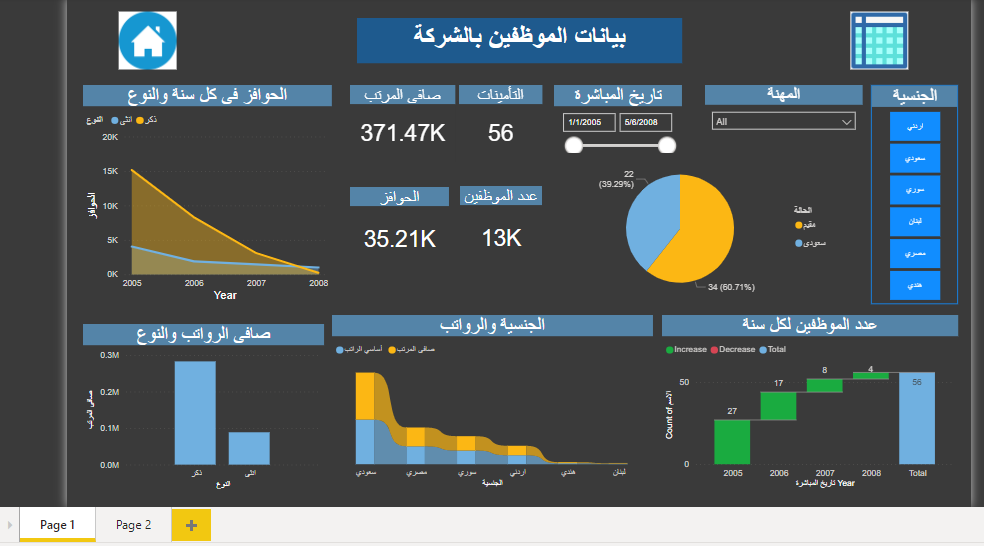

The dashboard page shown, as its layout file describes it:
{"tool":"powerbi","page":{"name":"Page 1","canvas":[1280,720],"ordinal":0},"visuals":[{"type":"slicer","title":"تاريخ المباشرة","fields":{"Values":["Sheet1.تاريخ المباشرة  "]},"box":[688.7,122.6,181.4,107.5],"z":0},{"type":"textbox","box":[409.9,28.6,460.3,63.8],"z":1000},{"type":"card","title":"عدد الموظفين","fields":{"Values":["Sum(Sheet1.رقم الموظف)"]},"box":[555.9,265.9,116,120.2],"z":2000},{"type":"card","title":"الحوافز","fields":{"Values":["Sum(Sheet1.الحوافز)"]},"box":[400.3,267.3,140,120.2],"z":3000},{"type":"card","title":"صافى المرتب","fields":{"Values":["Sum(Sheet1.صافى المرتب)"]},"box":[400.3,123.1,148.5,107.5],"z":4000},{"type":"card","title":"التأمينات","fields":{"Values":["CountNonNull(Sheet1.رقم الموظف)"]},"box":[554.3,122.6,117.6,107.5],"z":5000},{"type":"clusteredColumnChart","title":"صافى الرواتب والنوع","fields":{"Category":["Sheet1.النوع "],"Y":["Sum(Sheet1.صافى المرتب)"]},"box":[22.6,461.1,340.9,237.6],"z":6000},{"type":"pieChart","fields":{"Category":["Sheet1.الحالة "],"Y":["CountNonNull(Sheet1.الحالة )"]},"box":[700.2,219.3,387.6,213.6],"z":7000},{"type":"ribbonChart","title":"الجنسية والرواتب","fields":{"Category":["Sheet1.الجنسية "],"Y":["Sum(Sheet1.أساسي الراتب )","Sum(Sheet1.صافى المرتب)"]},"box":[374.6,448.5,453.5,250.3],"z":8000},{"type":"slicer","title":"المهنة","fields":{"Values":["Sheet1.المهنه"]},"box":[902.5,123.1,223.5,69.3],"z":9000},{"type":"slicer","title":"الجنسية","fields":{"Values":["Sheet1.الجنسية "]},"box":[1137.3,123.1,123.1,309.8],"z":10000},{"type":"waterfallChart","title":"عدد الموظفين لكل سنة","fields":{"Y":["CountNonNull(Sheet1.الاسم)"],"Category":["Sheet1.تاريخ المباشرة  .Variation.Date Hierarchy.Year","Sheet1.تاريخ المباشرة  .Variation.Date Hierarchy.Quarter","Sheet1.تاريخ المباشرة  .Variation.Date Hierarchy.Month","Sheet1.تاريخ المباشرة  .Variation.Date Hierarchy.Day"]},"box":[841.7,448.4,418.7,250.4],"z":11000},{"type":"image","box":[65.5,14.7,96.6,91.7],"z":12000},{"type":"areaChart","title":"الحوافز فى كل سنة والنوع","fields":{"Y":["Sum(Sheet1.الحوافز)"],"Series":["Sheet1.النوع "],"Category":["Sheet1.تاريخ المباشرة  .Variation.Date Hierarchy.Year","Sheet1.تاريخ المباشرة  .Variation.Date Hierarchy.Quarter","Sheet1.تاريخ المباشرة  .Variation.Date Hierarchy.Month","Sheet1.تاريخ المباشرة  .Variation.Date Hierarchy.Day"]},"box":[22.6,123.1,352.2,309.8],"z":13000},{"type":"image","box":[1099.1,14.1,100.4,91.9],"z":14000}]}

Visuals, with their boxes on the page's 1280x720 design canvas (x1, y1, x2, y2). These are canvas units, not pixel positions in the 984x546 screenshot, which may show the page scaled, cropped or inside an application window:
"تاريخ المباشرة" slicer: left=689, top=123, right=870, bottom=230
textbox: left=410, top=29, right=870, bottom=92
"عدد الموظفين" card: left=556, top=266, right=672, bottom=386
"الحوافز" card: left=400, top=267, right=540, bottom=388
"صافى المرتب" card: left=400, top=123, right=549, bottom=231
"التأمينات" card: left=554, top=123, right=672, bottom=230
"صافى الرواتب والنوع" clusteredColumnChart: left=23, top=461, right=364, bottom=699
pieChart - Sheet1.الحالة  x CountNonNull(Sheet1.الحالة ): left=700, top=219, right=1088, bottom=433
"الجنسية والرواتب" ribbonChart: left=375, top=448, right=828, bottom=699
"المهنة" slicer: left=902, top=123, right=1126, bottom=192
"الجنسية" slicer: left=1137, top=123, right=1260, bottom=433
"عدد الموظفين لكل سنة" waterfallChart: left=842, top=448, right=1260, bottom=699
image: left=66, top=15, right=162, bottom=106
"الحوافز فى كل سنة والنوع" areaChart: left=23, top=123, right=375, bottom=433
image: left=1099, top=14, right=1200, bottom=106
